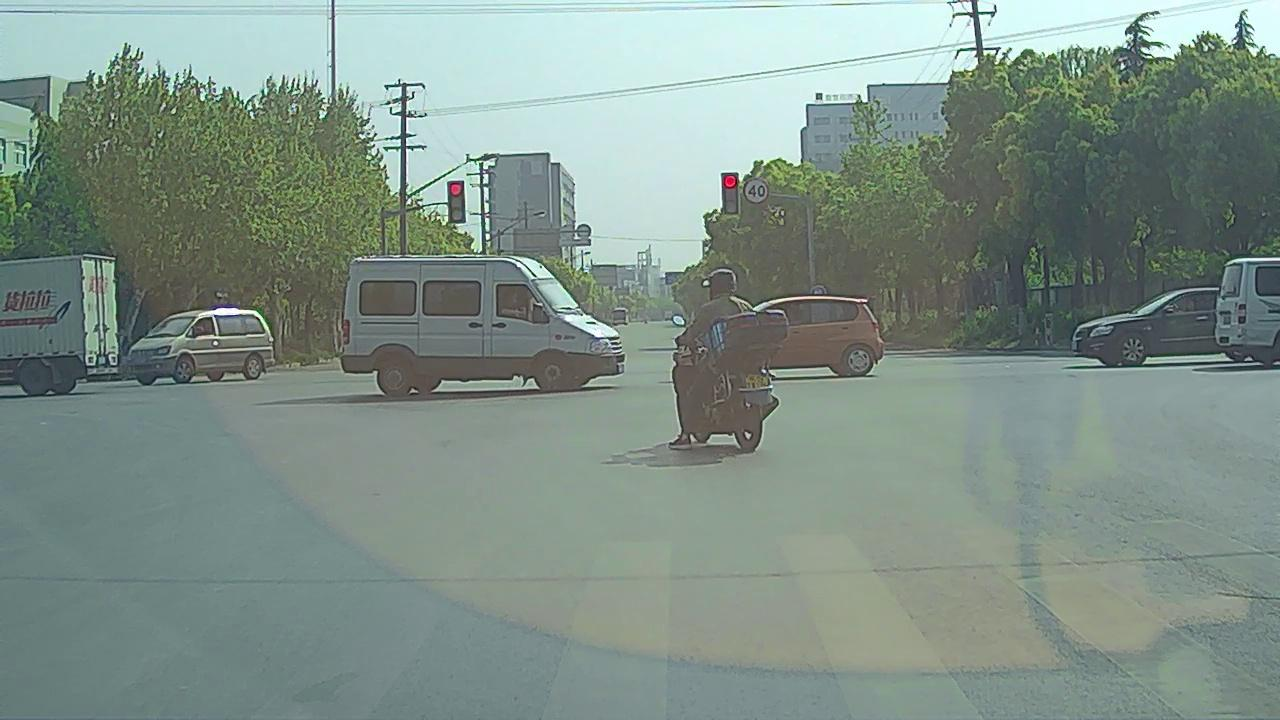traffic_light: (448, 180, 464, 221), (722, 173, 738, 214)
